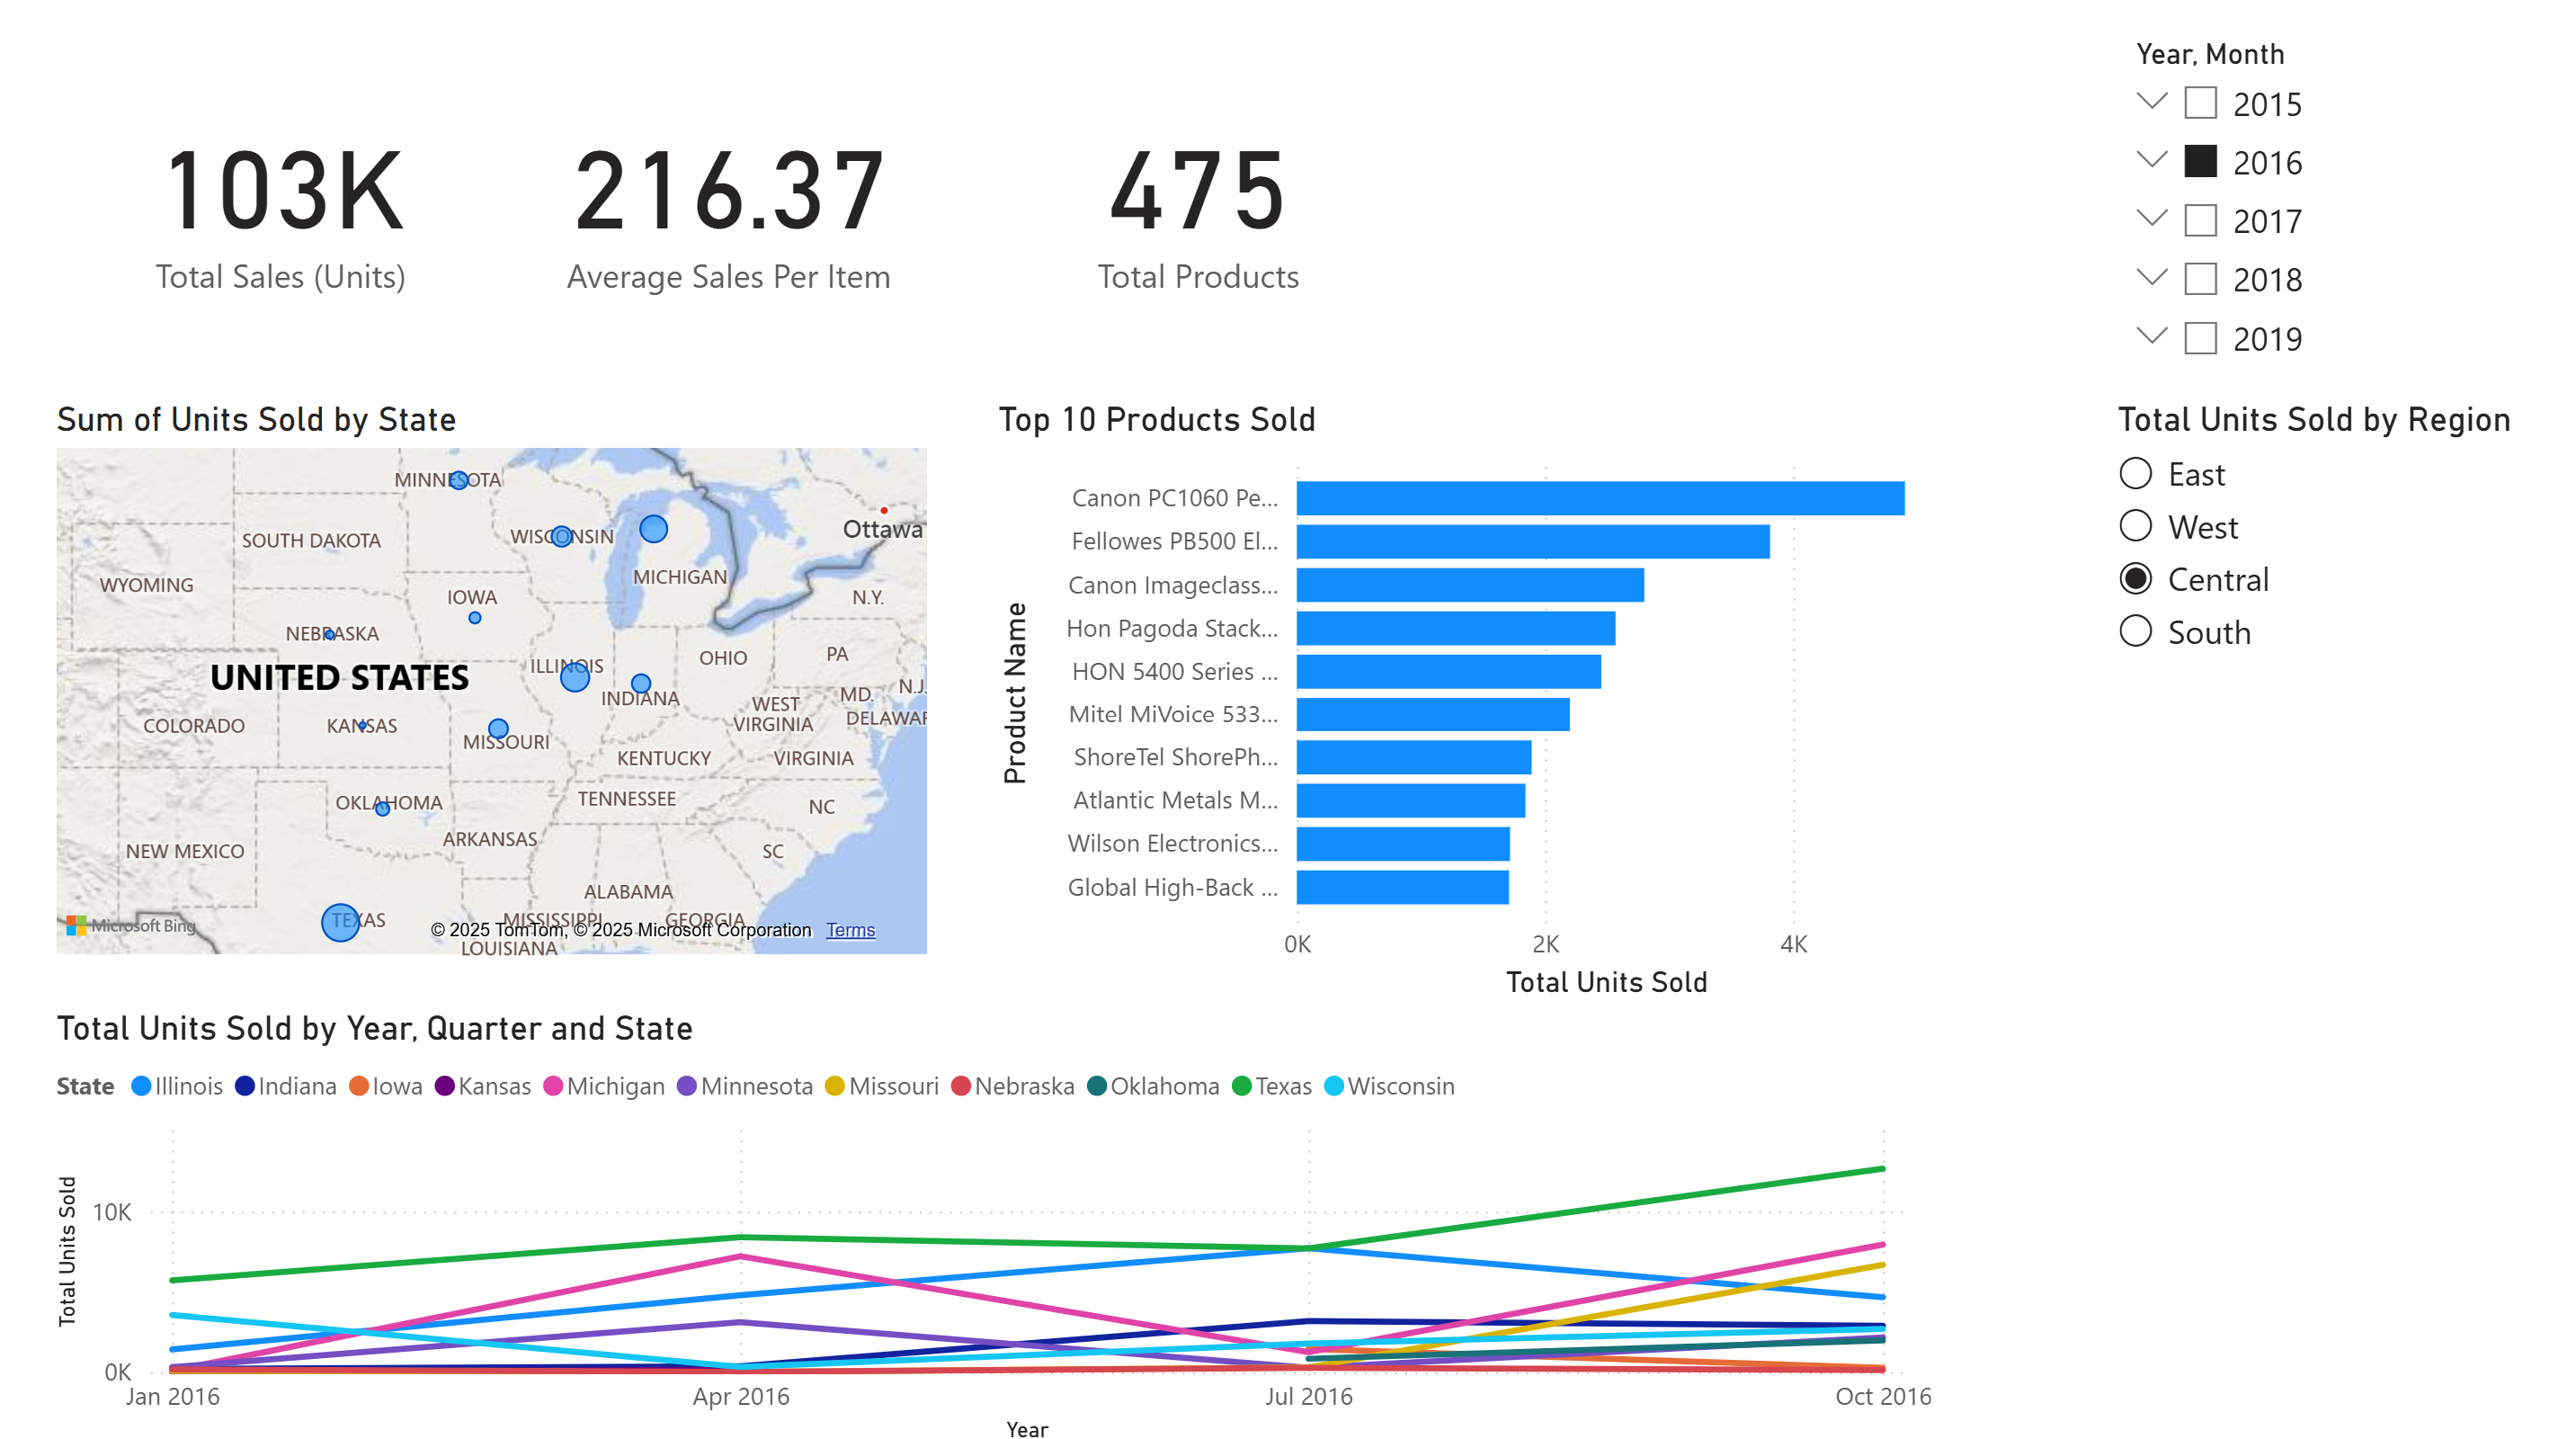

The page's visual inventory and layout, read from the dashboard file:
{"tool":"powerbi","page":{"name":"Sales Trend","canvas":[1280,720],"ordinal":0},"visuals":[{"type":"card","fields":{"Values":["train.Total Units Sold"]},"box":[25.7,0,231.4,200],"z":0},{"type":"card","fields":{"Values":["train.Average Units per Item"]},"box":[245.6,0,234.4,200],"z":1000},{"type":"clusteredBarChart","title":"Top 10 Products Sold","fields":{"Category":["train.Product Name"],"Y":["train.Total Units Sold"]},"box":[491.1,200,471.1,301.1],"z":3000},{"type":"listSlicer","fields":{"Values":["train.Region"]},"box":[1044.4,200,235.6,243.3],"z":4000},{"type":"map","fields":{"Category":["train.State"],"Size":["Sum(train.Units Sold)"]},"box":[25.7,200,440,280],"z":6000},{"type":"slicer","fields":{"Values":["train.Ship Date.Variation.Date Hierarchy.Year","train.Ship Date.Variation.Date Hierarchy.Month"]},"box":[1045.6,15.6,234.4,184.4],"z":6001},{"type":"lineChart","fields":{"Y":["train.Total Units Sold"],"Category":["train.Ship Date.Variation.Date Hierarchy.Year","train.Ship Date.Variation.Date Hierarchy.Quarter"],"Series":["train.State"]},"box":[25.6,501.1,936.7,218.9],"z":6002},{"type":"card","fields":{"Values":["CountNonNull(train.Product ID)"]},"box":[480,0,230,200],"z":6003}]}

Visuals, with their boxes in screenshot pixels (x1, y1, x2, y2), scaled from the page's 1280x720 canvas onto the 2576x1439 screenshot:
card - train.Total Units Sold: left=52, top=0, right=517, bottom=399
card - train.Average Units per Item: left=495, top=0, right=966, bottom=399
"Top 10 Products Sold" clusteredBarChart: left=988, top=399, right=1937, bottom=1002
listSlicer - train.Region: left=2102, top=399, right=2575, bottom=886
map - train.State x Sum(train.Units Sold): left=52, top=399, right=937, bottom=960
slicer - train.Ship Date.Variation.Date Hierarchy.Year x train.Ship Date.Variation.Date Hierarchy.Month: left=2104, top=31, right=2575, bottom=399
lineChart - train.Total Units Sold x train.Ship Date.Variation.Date Hierarchy.Year: left=51, top=1002, right=1937, bottom=1438
card - CountNonNull(train.Product ID): left=966, top=0, right=1429, bottom=399
